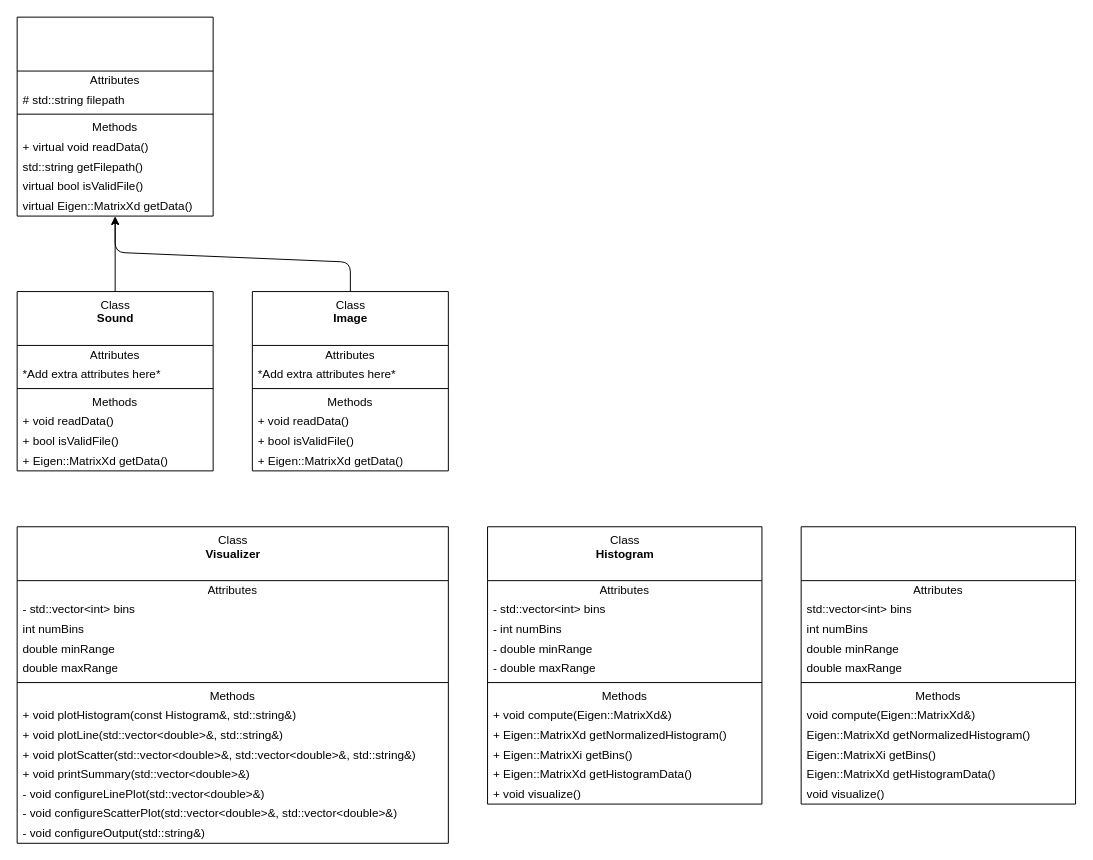
This 1093x860 diagram has some shape labels left out. Each missing label, with the box of its shape:
Class Fourier: (800, 526, 1076, 804)
Class Input {abstract}: (16, 16, 213, 216)
